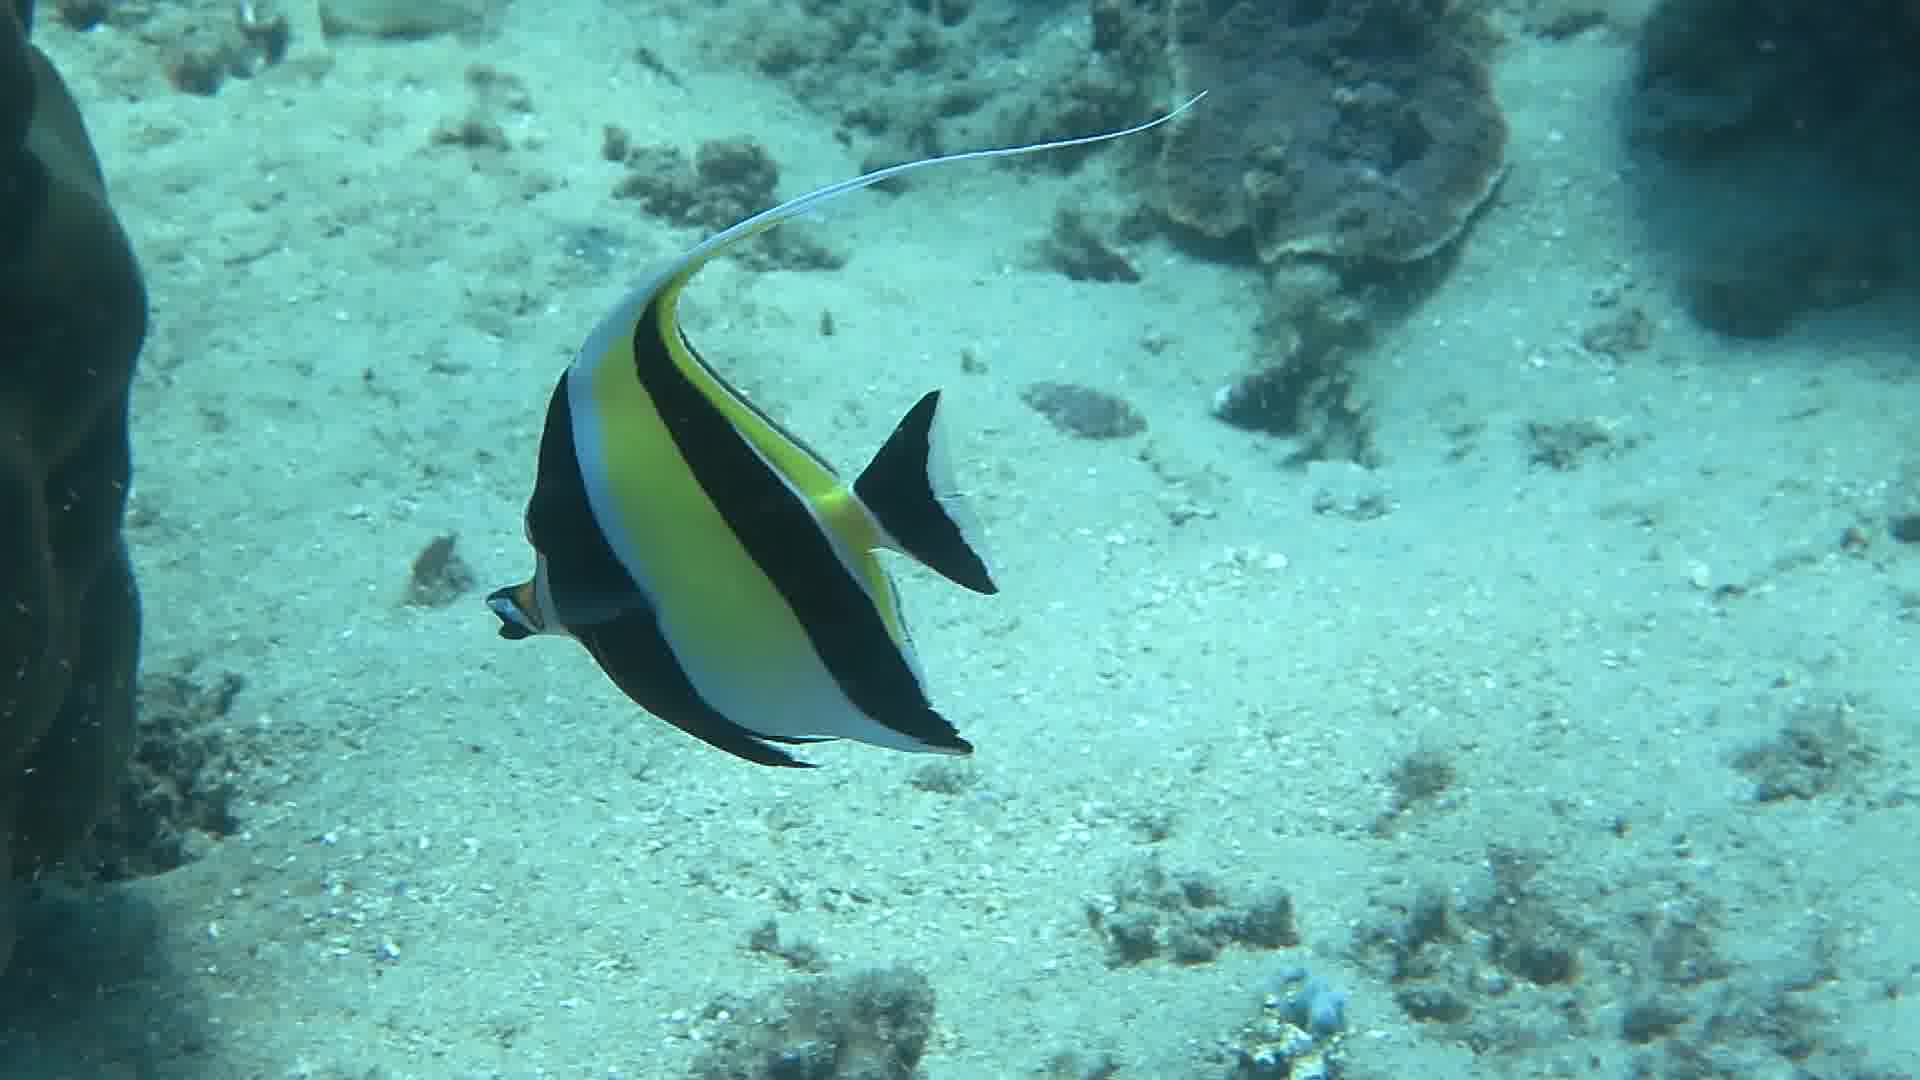Zanclus cornutus: (469, 240, 1027, 793)
